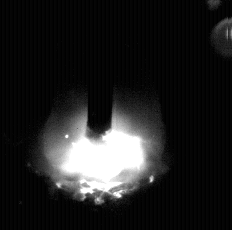arame: (88, 0, 114, 138)
poca: (38, 0, 167, 230)
